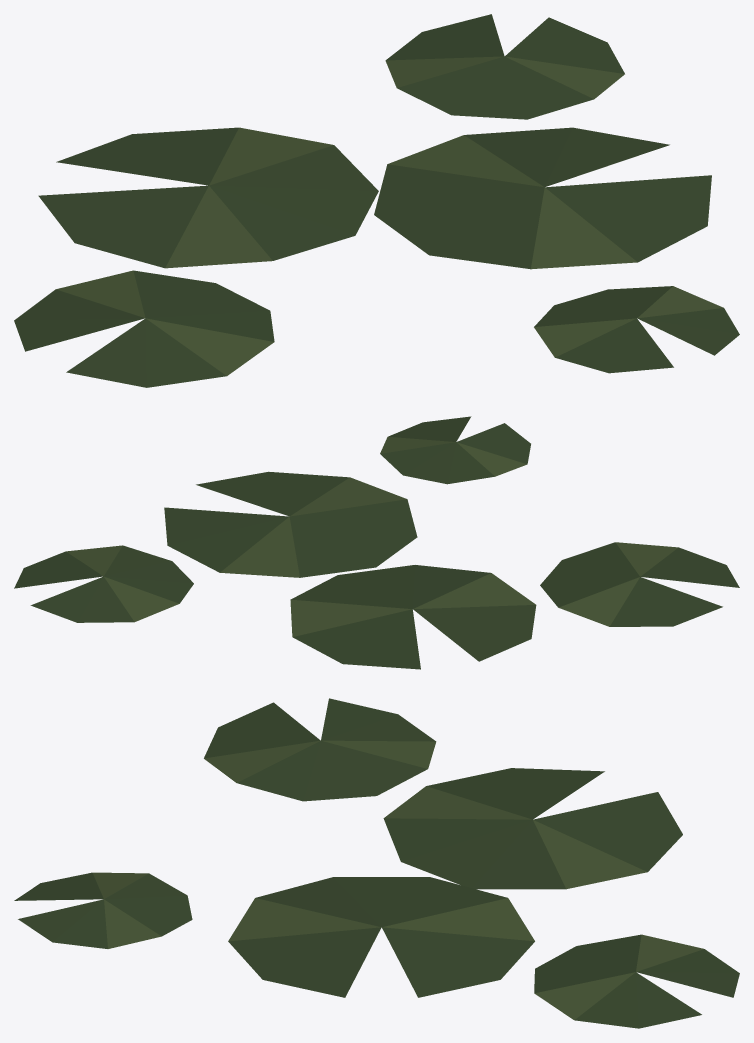
File: source_6.glb
3 views of the same model, one above another, from view 1: azimuth 30°, elevation 25°; view 2: azimuth 150°, elevation 25°; view 3: azimuth 270°, elevation 25° (orthographic). The views are drawn at different scales.
Parts seen in each view (by area): view 1: woodland-lily-a · evaluated preview mesh; view 2: woodland-lily-a · evaluated preview mesh; view 3: woodland-lily-a · evaluated preview mesh.
Part boxes in pixels (x1=…): woodland-lily-a · evaluated preview mesh: x1=14, y1=14, x2=739, y2=387; woodland-lily-a · evaluated preview mesh: x1=14, y1=416, x2=739, y2=669; woodland-lily-a · evaluated preview mesh: x1=14, y1=698, x2=739, y2=1028.
Bounding box in the file's own units: 2.14 × 0.035 × 2.01.
